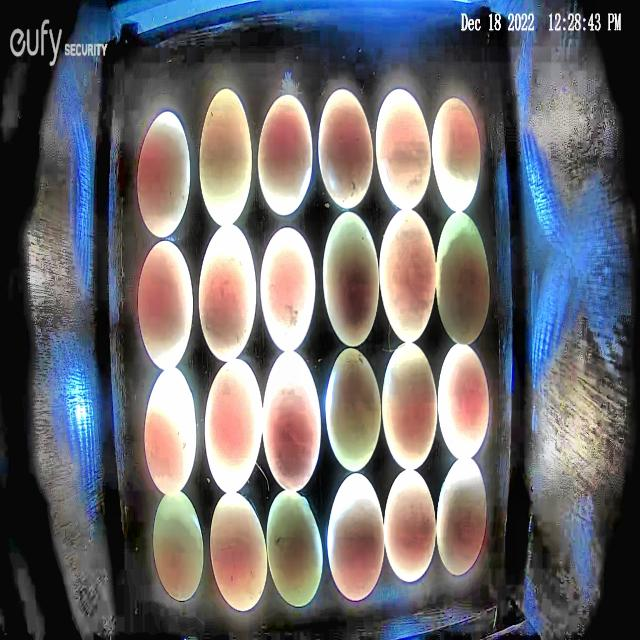UF: (262, 350, 322, 492), (203, 356, 264, 495), (198, 224, 258, 363), (321, 210, 381, 349), (378, 205, 437, 344), (199, 87, 253, 228), (327, 472, 385, 603), (137, 238, 194, 370), (381, 341, 438, 472), (210, 489, 269, 614), (436, 213, 491, 346), (325, 347, 382, 474), (266, 486, 324, 610), (260, 224, 316, 352), (375, 88, 433, 210), (144, 366, 198, 496), (257, 94, 314, 217), (317, 86, 374, 209), (137, 111, 191, 239), (436, 341, 489, 462), (436, 456, 487, 576), (431, 96, 482, 215), (152, 487, 205, 601), (384, 468, 436, 583)
